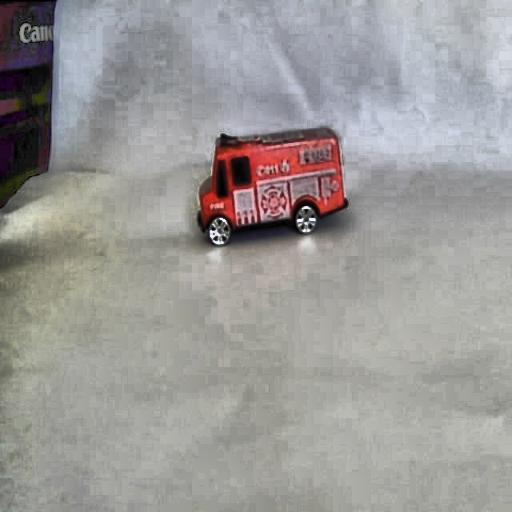fire_truck: (186, 124, 350, 255), (266, 143, 316, 176)
